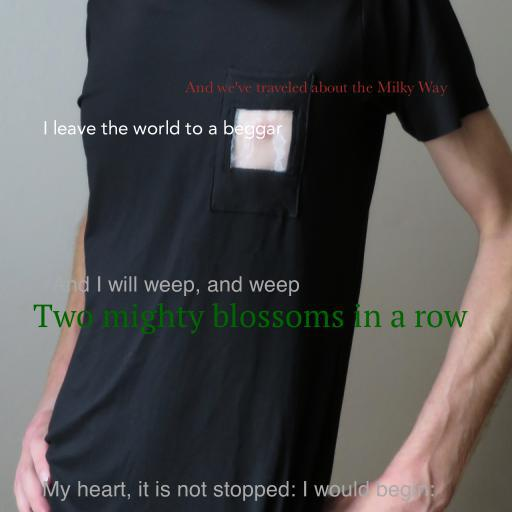Avenir: (43, 120, 283, 139)
Baskerville: (185, 81, 447, 97)
Big Caslon: (52, 276, 300, 297)
PT Serif: (33, 303, 467, 334)
SF Pro: (41, 481, 435, 502)
